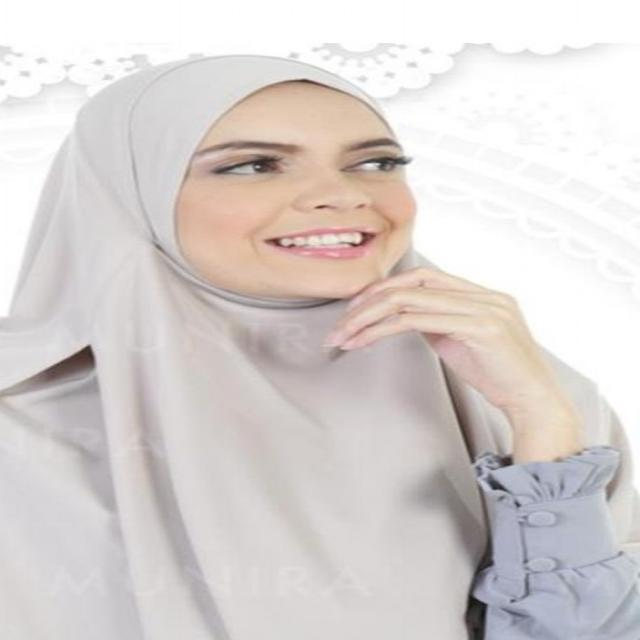head: (79, 57, 427, 304)
